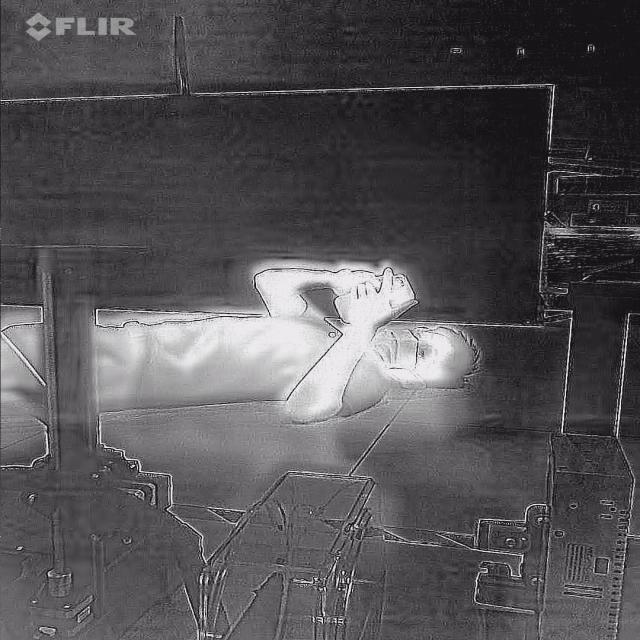Victim: (0, 258, 501, 428)
